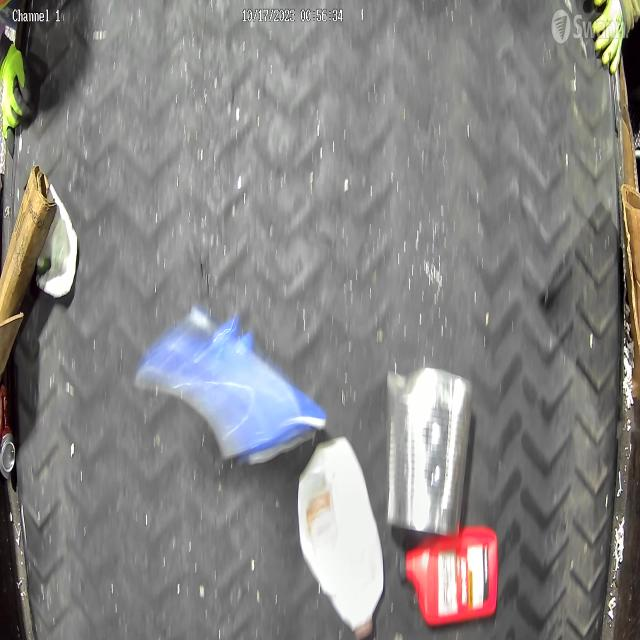milk-jug: (297, 429, 388, 637)
